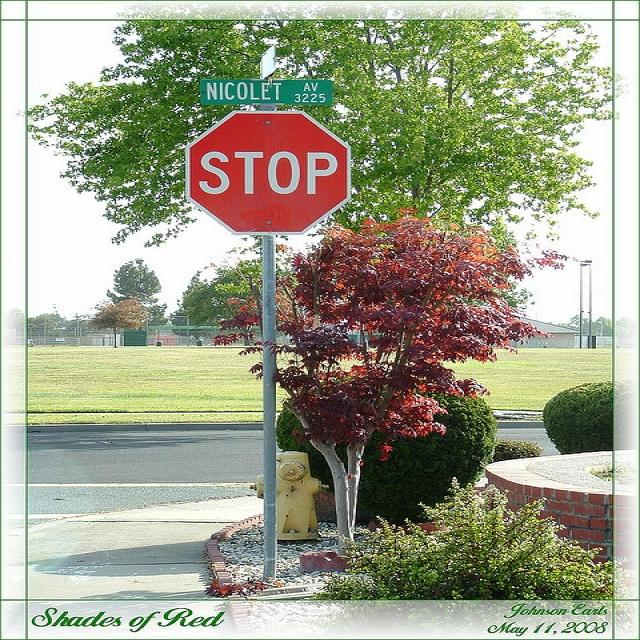pole: (253, 234, 284, 579)
